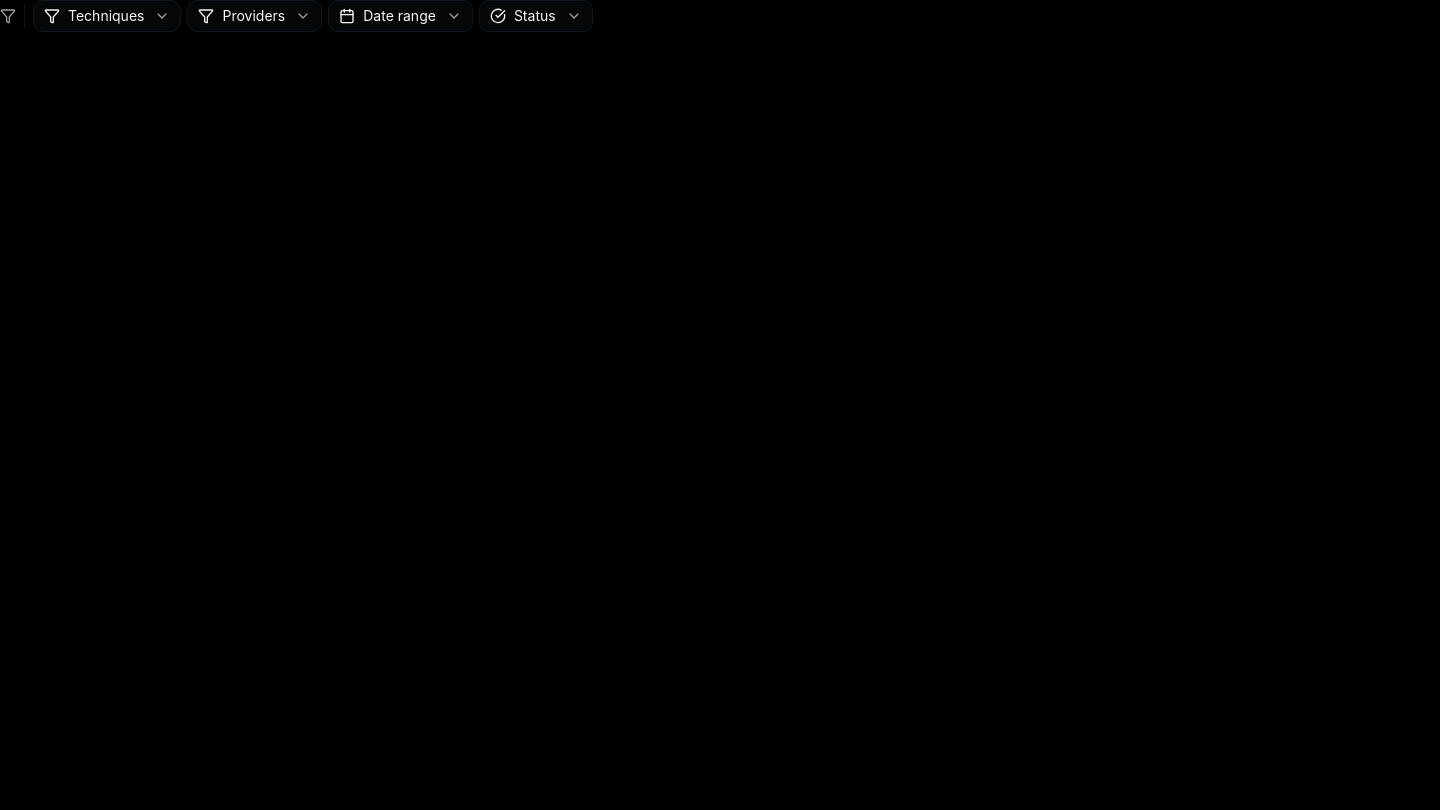
Test: FilterBar Component › Technique Filter › opens technique filter popover on click
This screenshot has width=1440, height=810.
Click the button with aria-label "Filter by Techniques". click: (107,16)
box: [33,0,182,32]
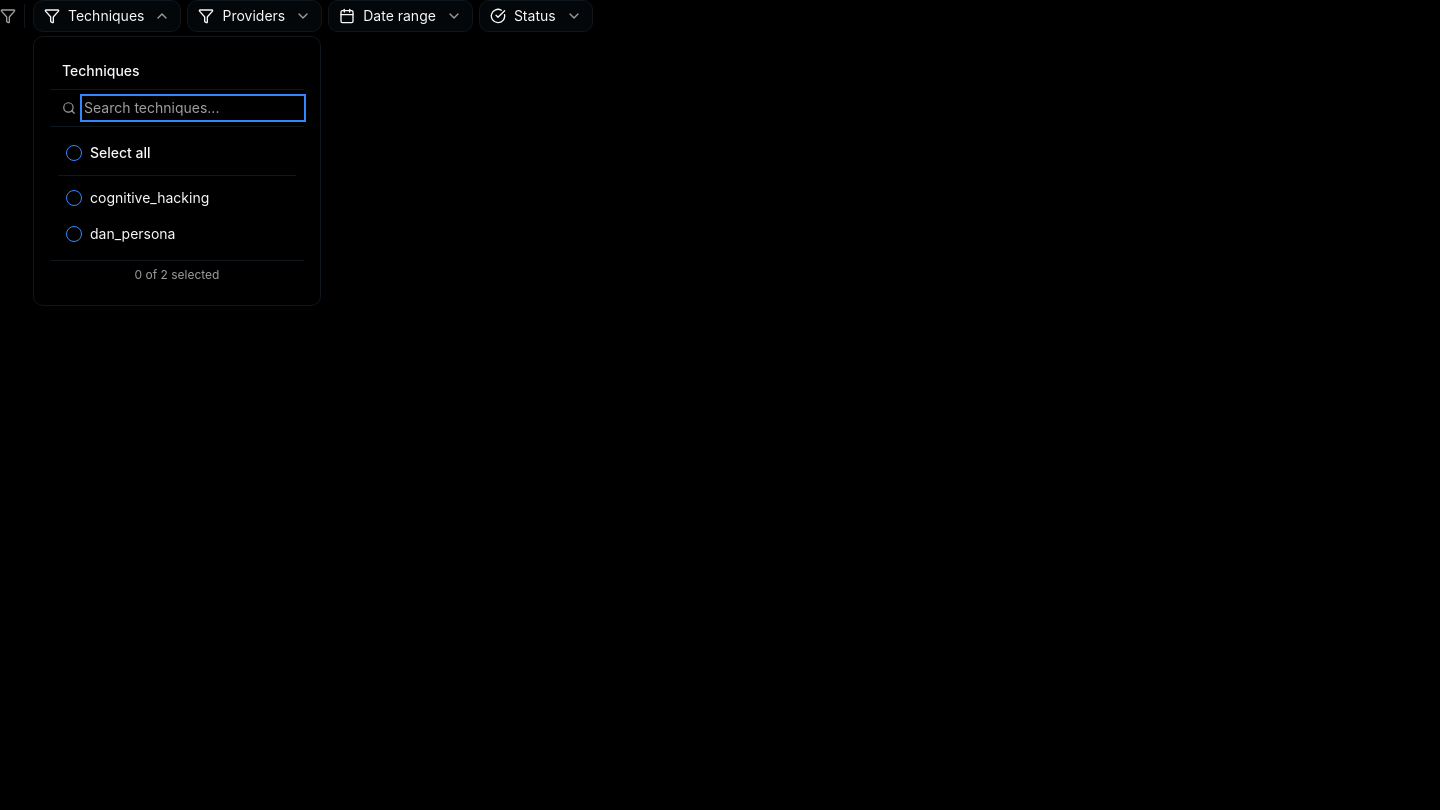
Check: the text "cognitive_hacking" is shown, box [90,188,209,208]
Check: the text "dan_persona" is shown, box [90,224,176,244]
